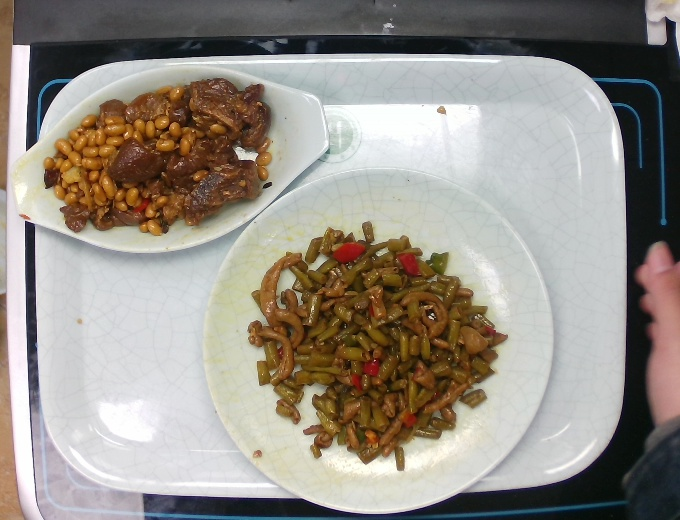JYsf-Da_Yuan_Pan: (199, 164, 557, 517)
JYsf-Yu_Pan: (6, 63, 333, 259)
